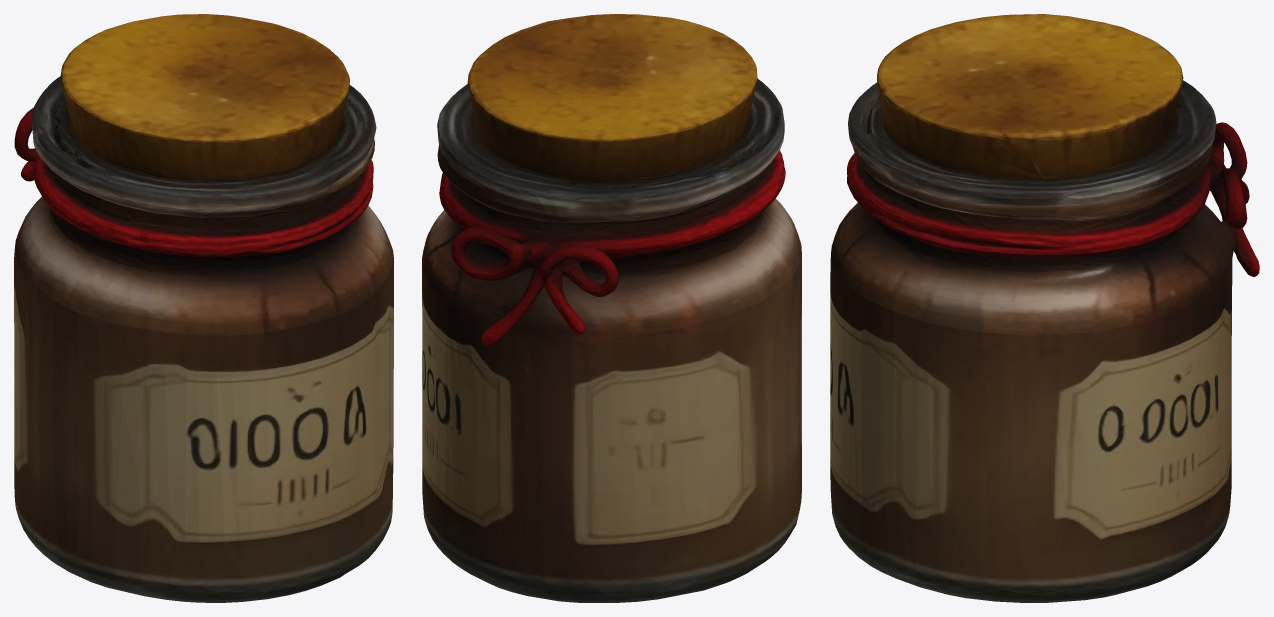
File: cocoa-jar.glb
3 views of the same model, side by side, from view 1: azimuth 30°, elevation 25°; view 2: azimuth 150°, elevation 25°; view 3: azimuth 270°, elevation 25° (orthographic).
Parts seen in each view (by area): view 1: world; view 2: world; view 3: world.
Part boxes in pixels (bbox=[...]): world: bbox=[14, 14, 393, 602]; world: bbox=[422, 14, 801, 602]; world: bbox=[830, 14, 1259, 602].
Bounding box in the file's own units: 0.7362 × 0.9957 × 0.8367.
Materials: 1 (1 with a texture image).
